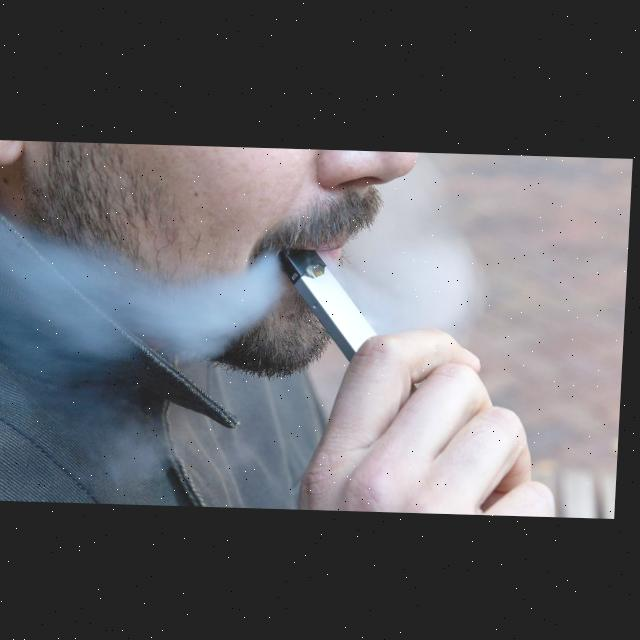vape: (276, 241, 384, 365)
